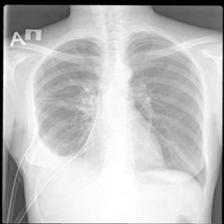tuberculosis: (28, 22, 210, 200)
